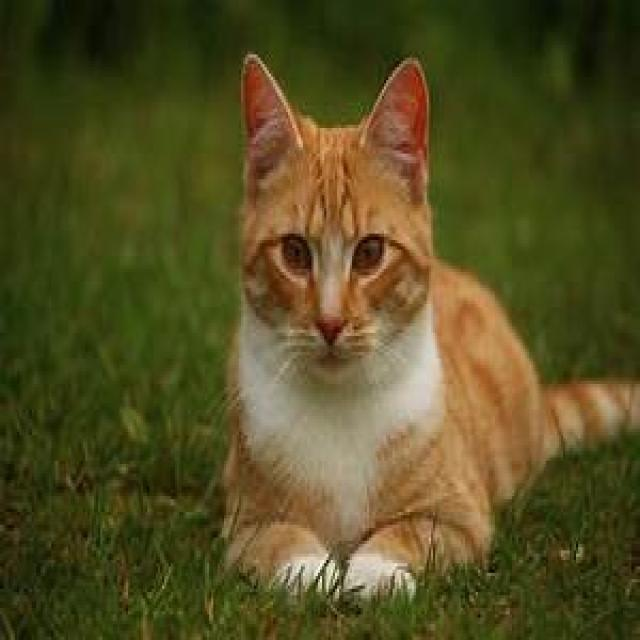KEDI: (225, 46, 640, 596)
